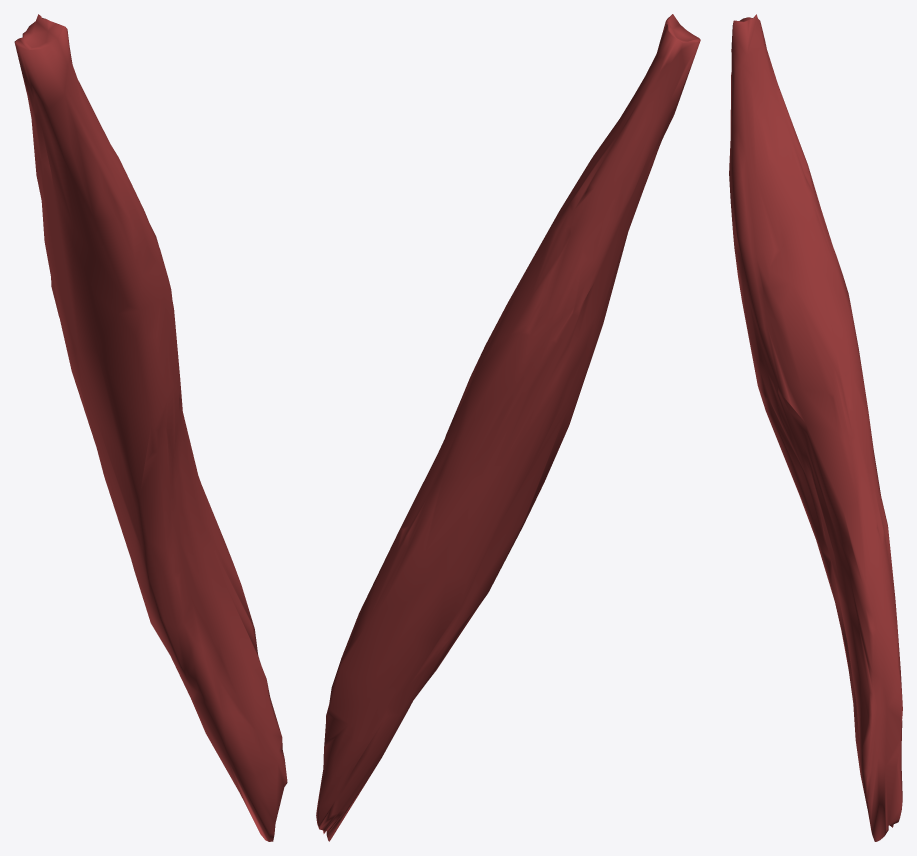
Rendered from coracobrachialis-muscle-l.glb.
3 views of the same model, side by side, from view 1: azimuth 30°, elevation 25°; view 2: azimuth 150°, elevation 25°; view 3: azimuth 270°, elevation 25° (orthographic). The views are drawn at different scales.
Visible parts, largest first — view 1: Coracobrachialis muscle.l; view 2: Coracobrachialis muscle.l; view 3: Coracobrachialis muscle.l.
Boxes of the visible parts, box(x1,y1,x2,y2) form: Coracobrachialis muscle.l: box(14, 14, 287, 841); Coracobrachialis muscle.l: box(316, 14, 700, 841); Coracobrachialis muscle.l: box(729, 14, 902, 841).
Bounding box in the file's own units: 0.0608 × 0.1587 × 0.035.
